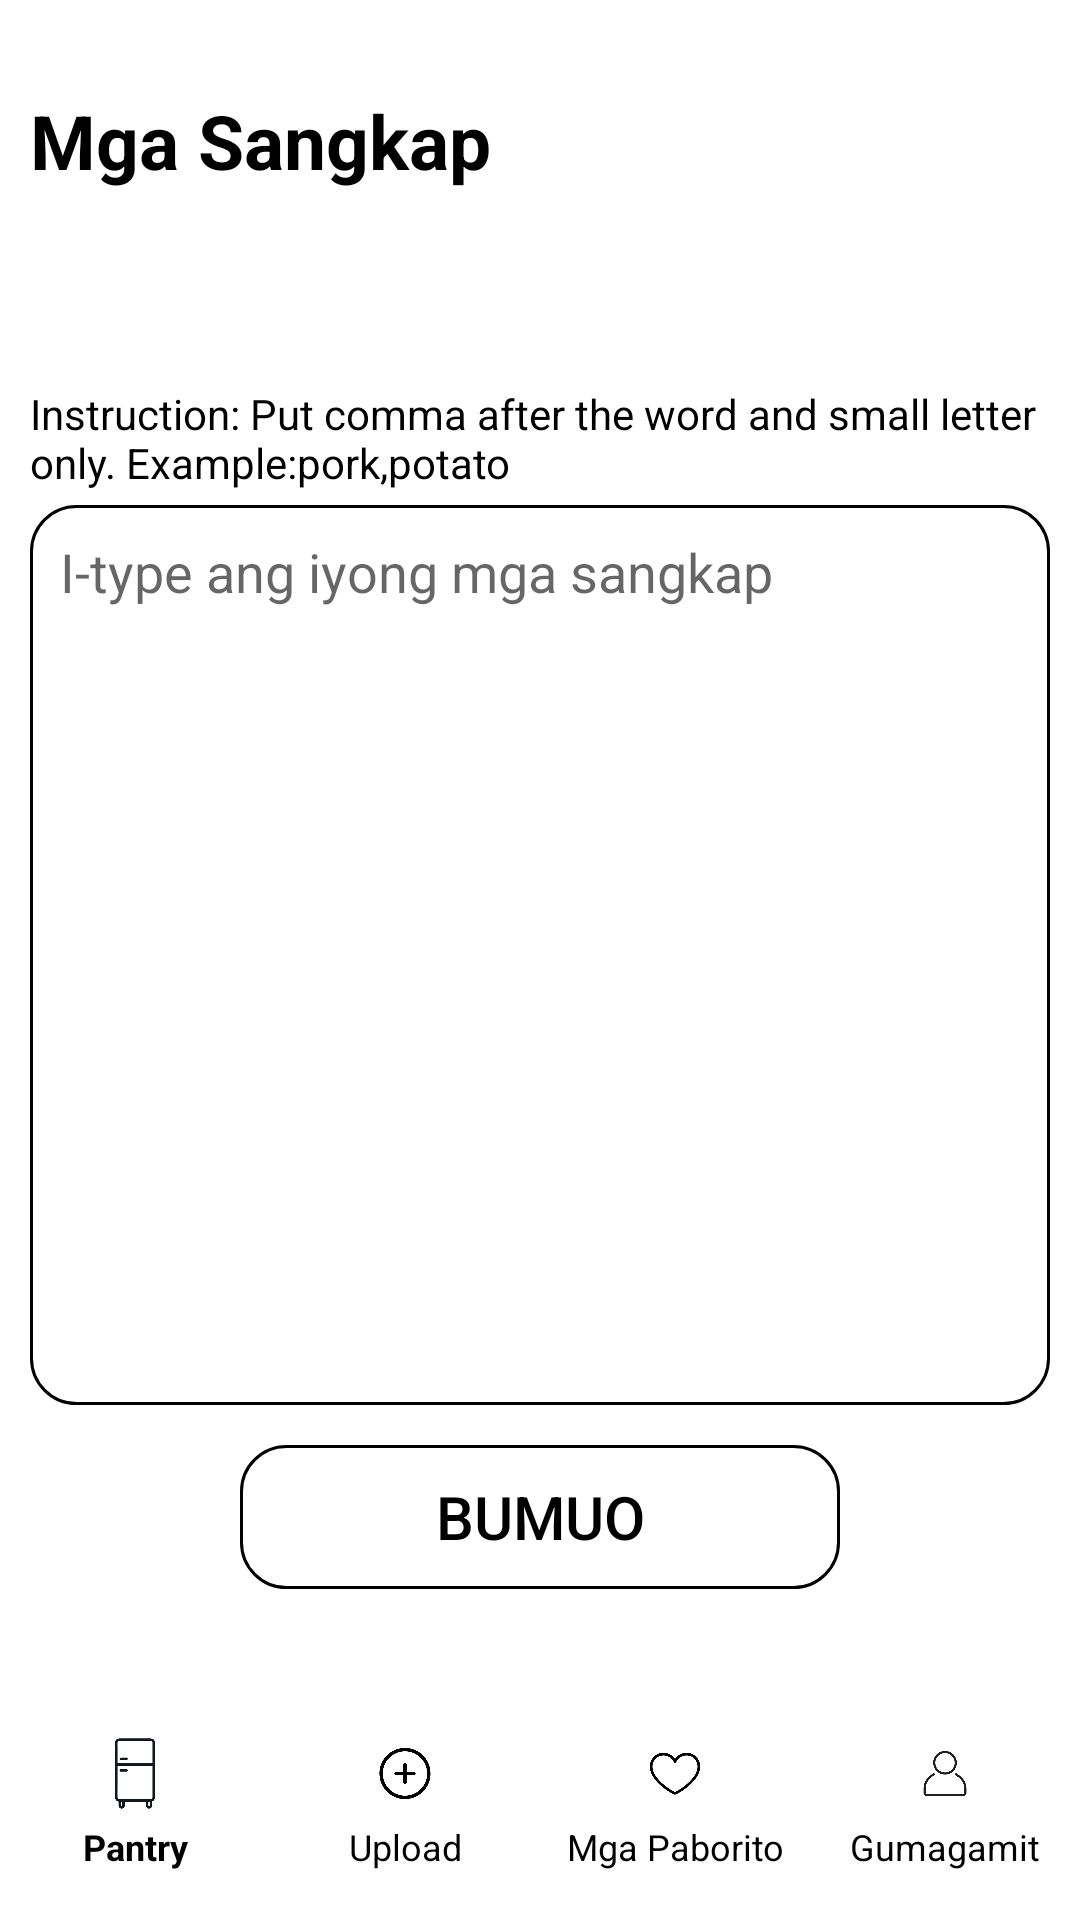

Screen size 1080 × 1920. Icon name, then its box in pixels as (x1=x1, y1=y1, x2=x2, y2=y2):
acc: (x1=923, y1=1751, x2=967, y2=1796)
add: (x1=379, y1=1748, x2=431, y2=1799)
favorite: (x1=650, y1=1753, x2=700, y2=1795)
